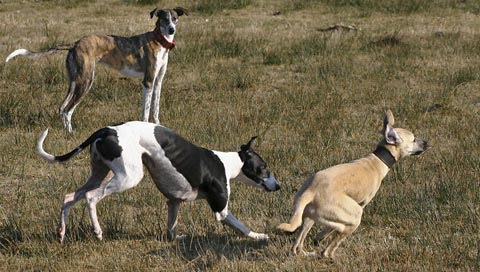dog: (35, 121, 281, 244), (275, 110, 430, 261), (5, 8, 189, 133)
